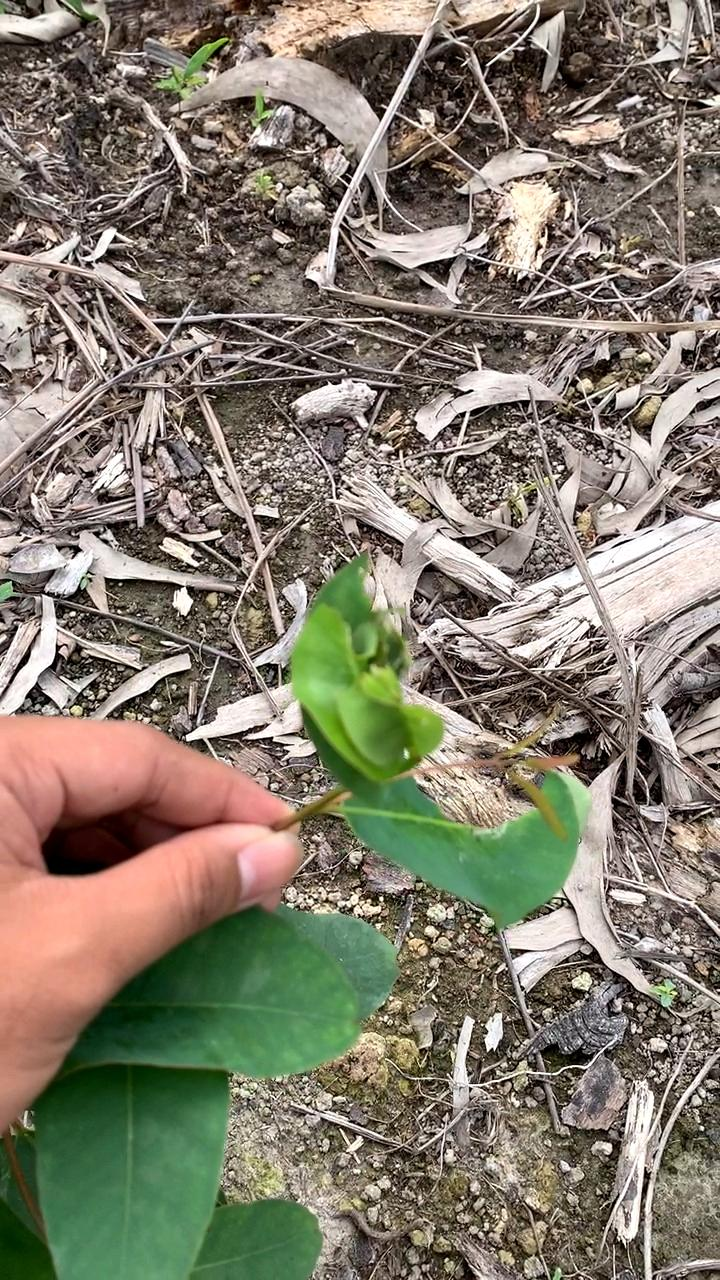Leaf Roller - Leaf: (291, 590, 465, 805)
